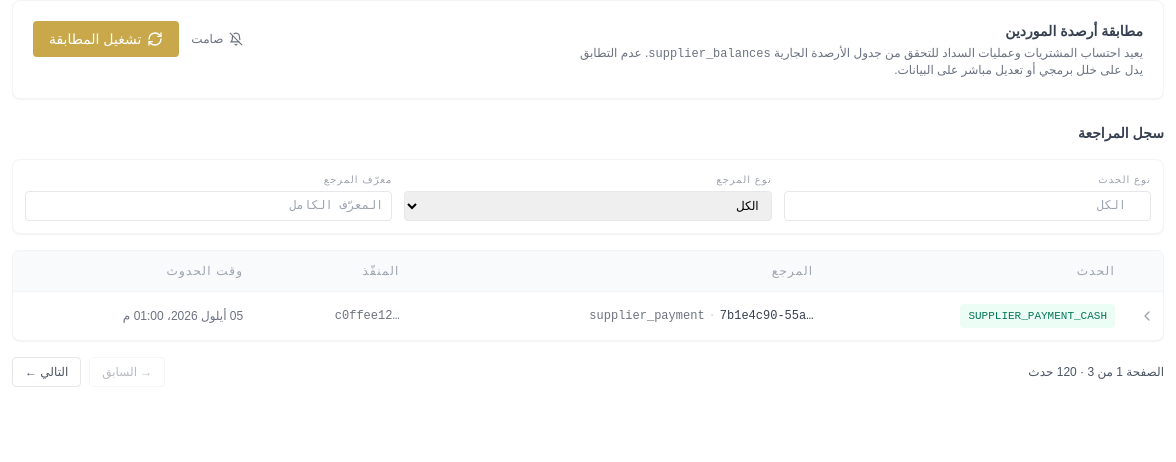
Scenario: inventory ledger labels and i18n (NEX-64) › reports a failed reconcile in Arabic
The width and height of the screenshot is (1176, 462).
What coordinates should you click on to do the following:
click the button "تشغيل المطابقة"
I would click on:
 (106, 39)
Its box is [33,21,179,57].
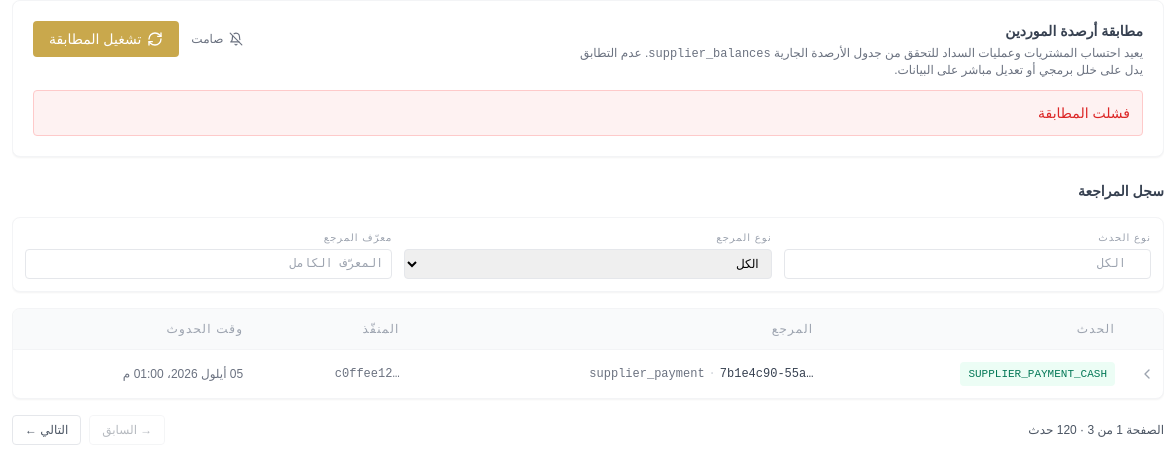
Expected: the message reads "فشلت المطابقة", [1038,105,1130,121]
